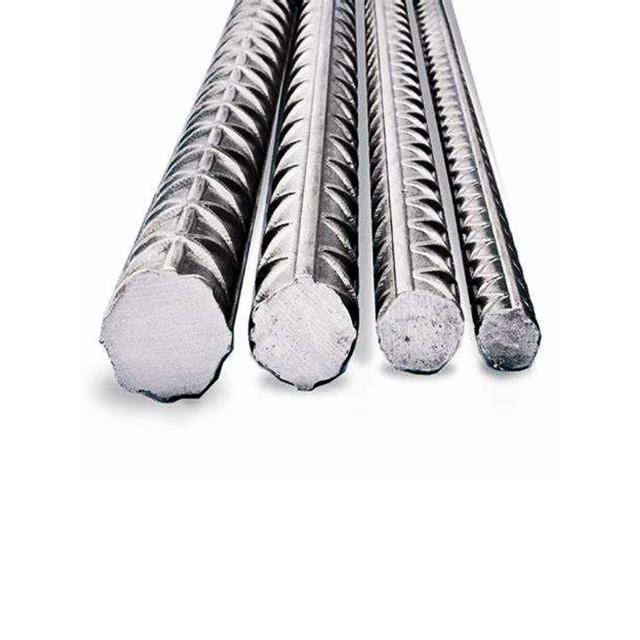Rebar: (90, 277, 241, 409), (252, 265, 359, 395), (383, 287, 473, 379), (481, 303, 548, 375)
